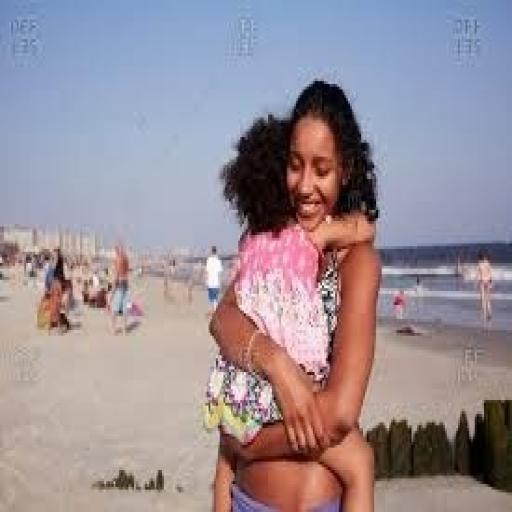hugging: (205, 76, 383, 509)
